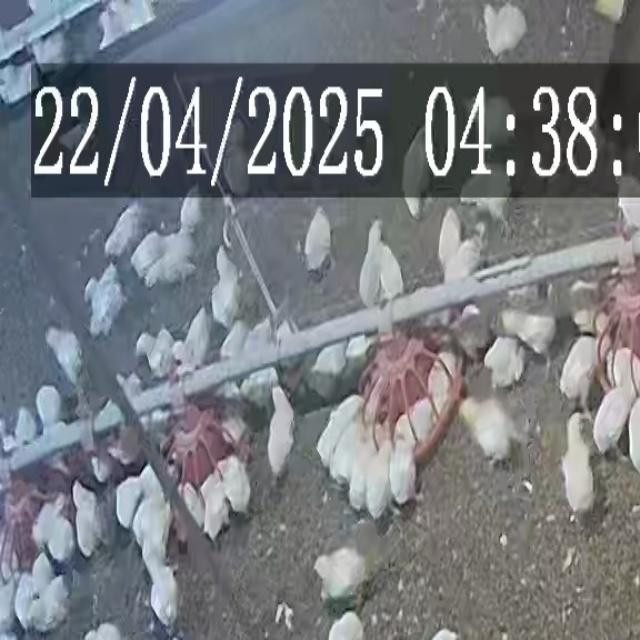chicken: (358, 220, 403, 315), (458, 392, 515, 466), (255, 383, 298, 471), (308, 544, 375, 600), (559, 414, 596, 515), (459, 167, 519, 229), (82, 263, 126, 337), (591, 384, 634, 456), (558, 335, 599, 410), (208, 249, 248, 325), (498, 309, 556, 358), (72, 477, 106, 557), (96, 202, 148, 254), (45, 326, 84, 390), (482, 335, 525, 391), (484, 2, 527, 58), (217, 453, 253, 518), (199, 471, 232, 541), (300, 206, 337, 268), (444, 228, 482, 286), (135, 324, 174, 380), (393, 438, 425, 505), (146, 563, 178, 627), (368, 442, 396, 513), (182, 306, 214, 365), (221, 144, 254, 196), (219, 318, 254, 366), (437, 207, 462, 271), (308, 341, 349, 380), (49, 513, 75, 565), (178, 182, 204, 233), (12, 406, 38, 450)
